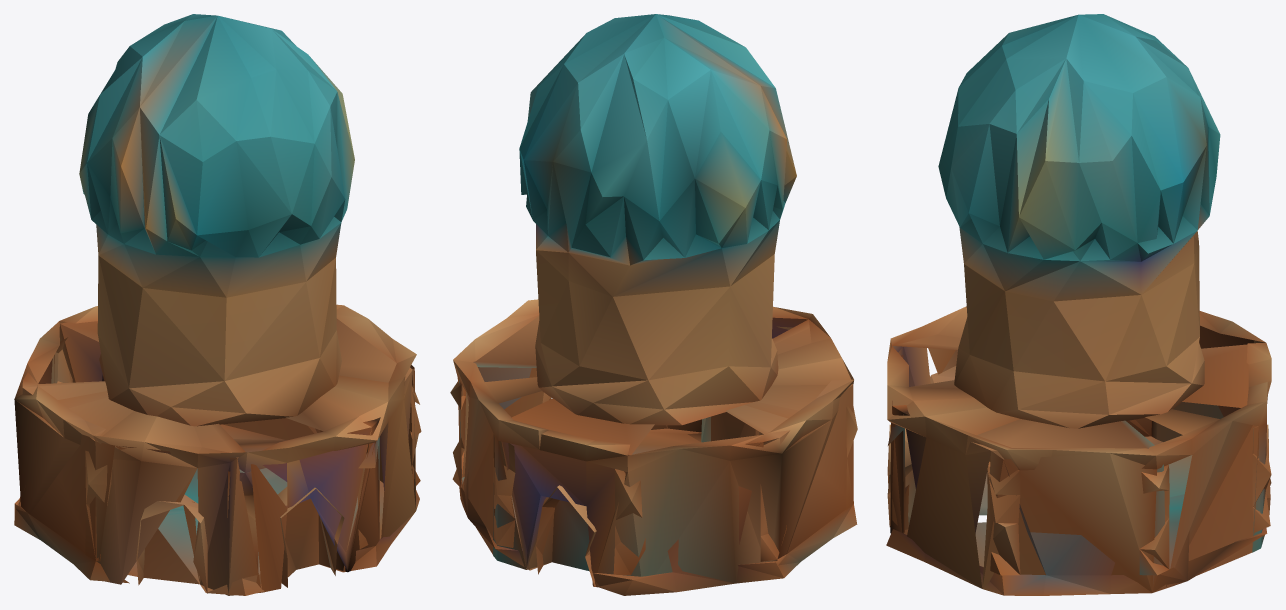
The model's file is gurem_lo.glb.
3 views of the same model, side by side, from view 1: azimuth 30°, elevation 25°; view 2: azimuth 150°, elevation 25°; view 3: azimuth 270°, elevation 25° (orthographic).
Visible parts, largest first — view 1: geometry_0; view 2: geometry_0; view 3: geometry_0.
Part boxes in pixels (x1,y1,x2,y2): geometry_0: [14, 14, 421, 595]; geometry_0: [450, 14, 857, 595]; geometry_0: [886, 14, 1271, 595].
Size of the model in its own units: 0.6635 by 0.9512 by 0.6635.
